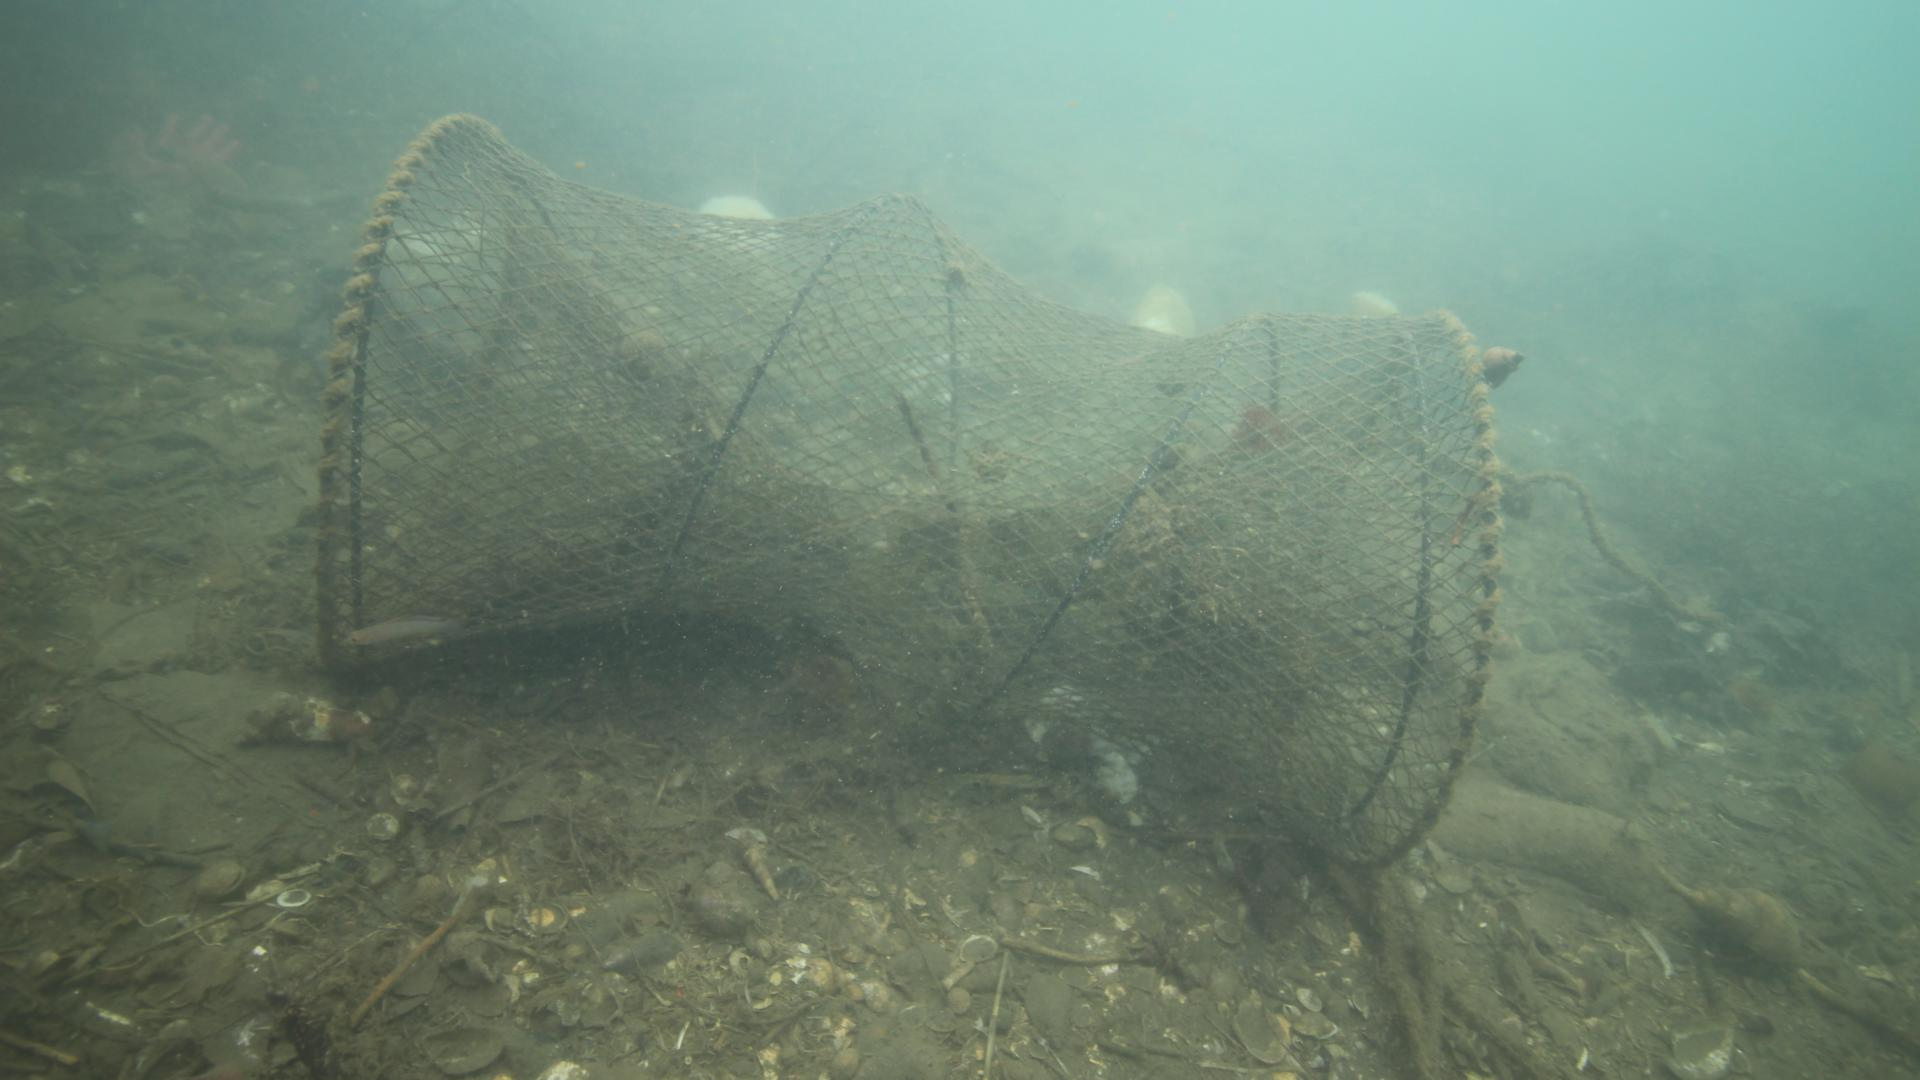bundle of ropes: (1375, 862, 1443, 1080)
rope: (1511, 471, 1718, 616)
spring fish trap: (314, 109, 1505, 877)
